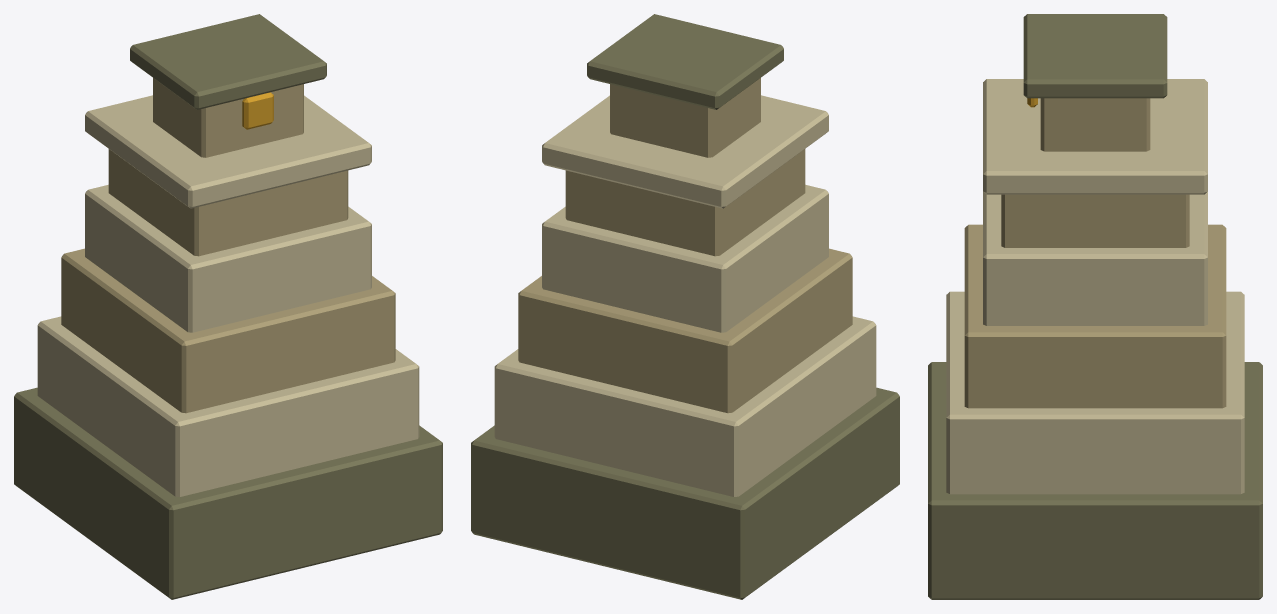
Rendered from south_american-post.glb.
3 views of the same model, side by side, from view 1: azimuth 30°, elevation 25°; view 2: azimuth 150°, elevation 25°; view 3: azimuth 270°, elevation 25° (orthographic). The views are drawn at different scales.
Parts seen in each view (by area): view 1: body; view 2: body; view 3: body.
Boxes of the visible parts, x1,y1,x2,y2 form: body: [14, 14, 442, 599]; body: [471, 14, 899, 599]; body: [928, 14, 1262, 599].
Bounding box in the file's own units: 1.28 × 2.04 × 1.28.
